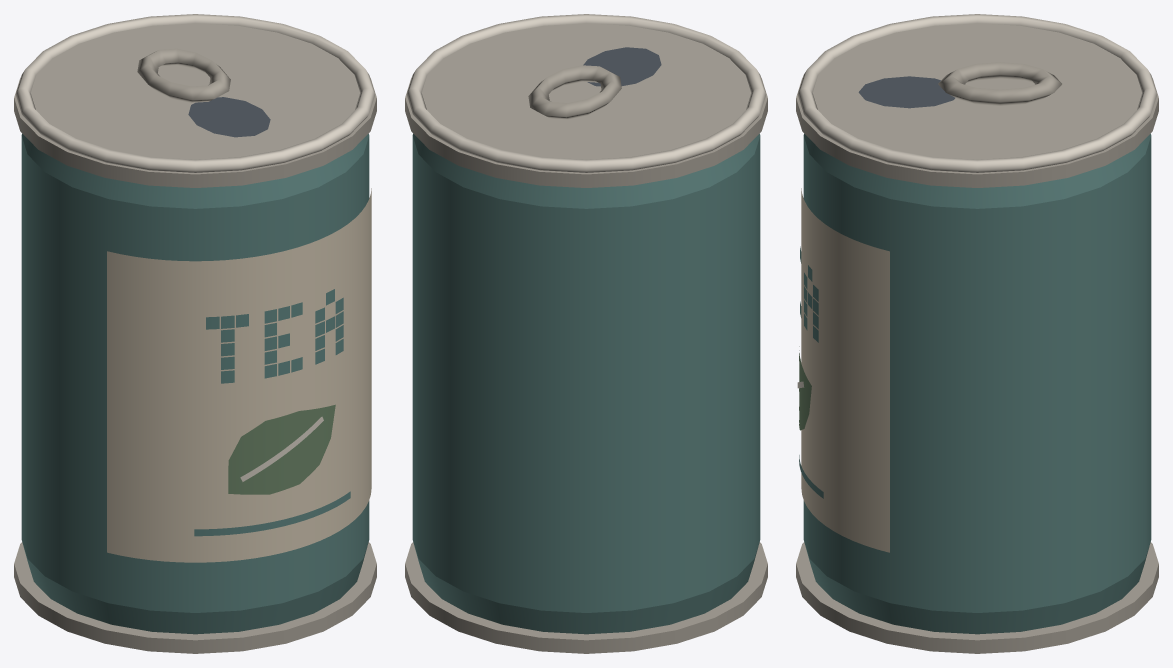
The model's file is komachi-tea-can.glb.
3 views of the same model, side by side, from view 1: azimuth 30°, elevation 25°; view 2: azimuth 150°, elevation 25°; view 3: azimuth 270°, elevation 25° (orthographic).
Parts seen in each view (by area): view 1: Komachi_Tea_Can; view 2: Komachi_Tea_Can; view 3: Komachi_Tea_Can.
Part boxes in pixels (x1,y1,x2,y2): Komachi_Tea_Can: (14,14,376,653); Komachi_Tea_Can: (405,14,767,653); Komachi_Tea_Can: (796,14,1158,653).
Size of the model in its own units: 0.048 by 0.0732 by 0.048.
